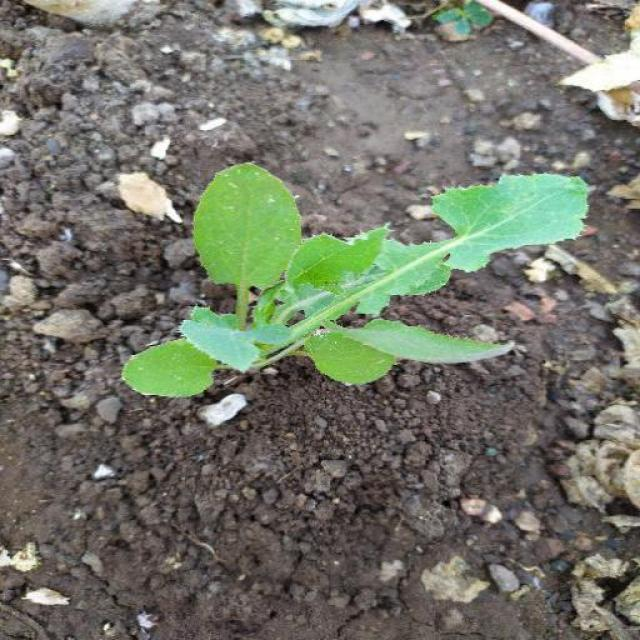weed: (116, 137, 590, 425)
